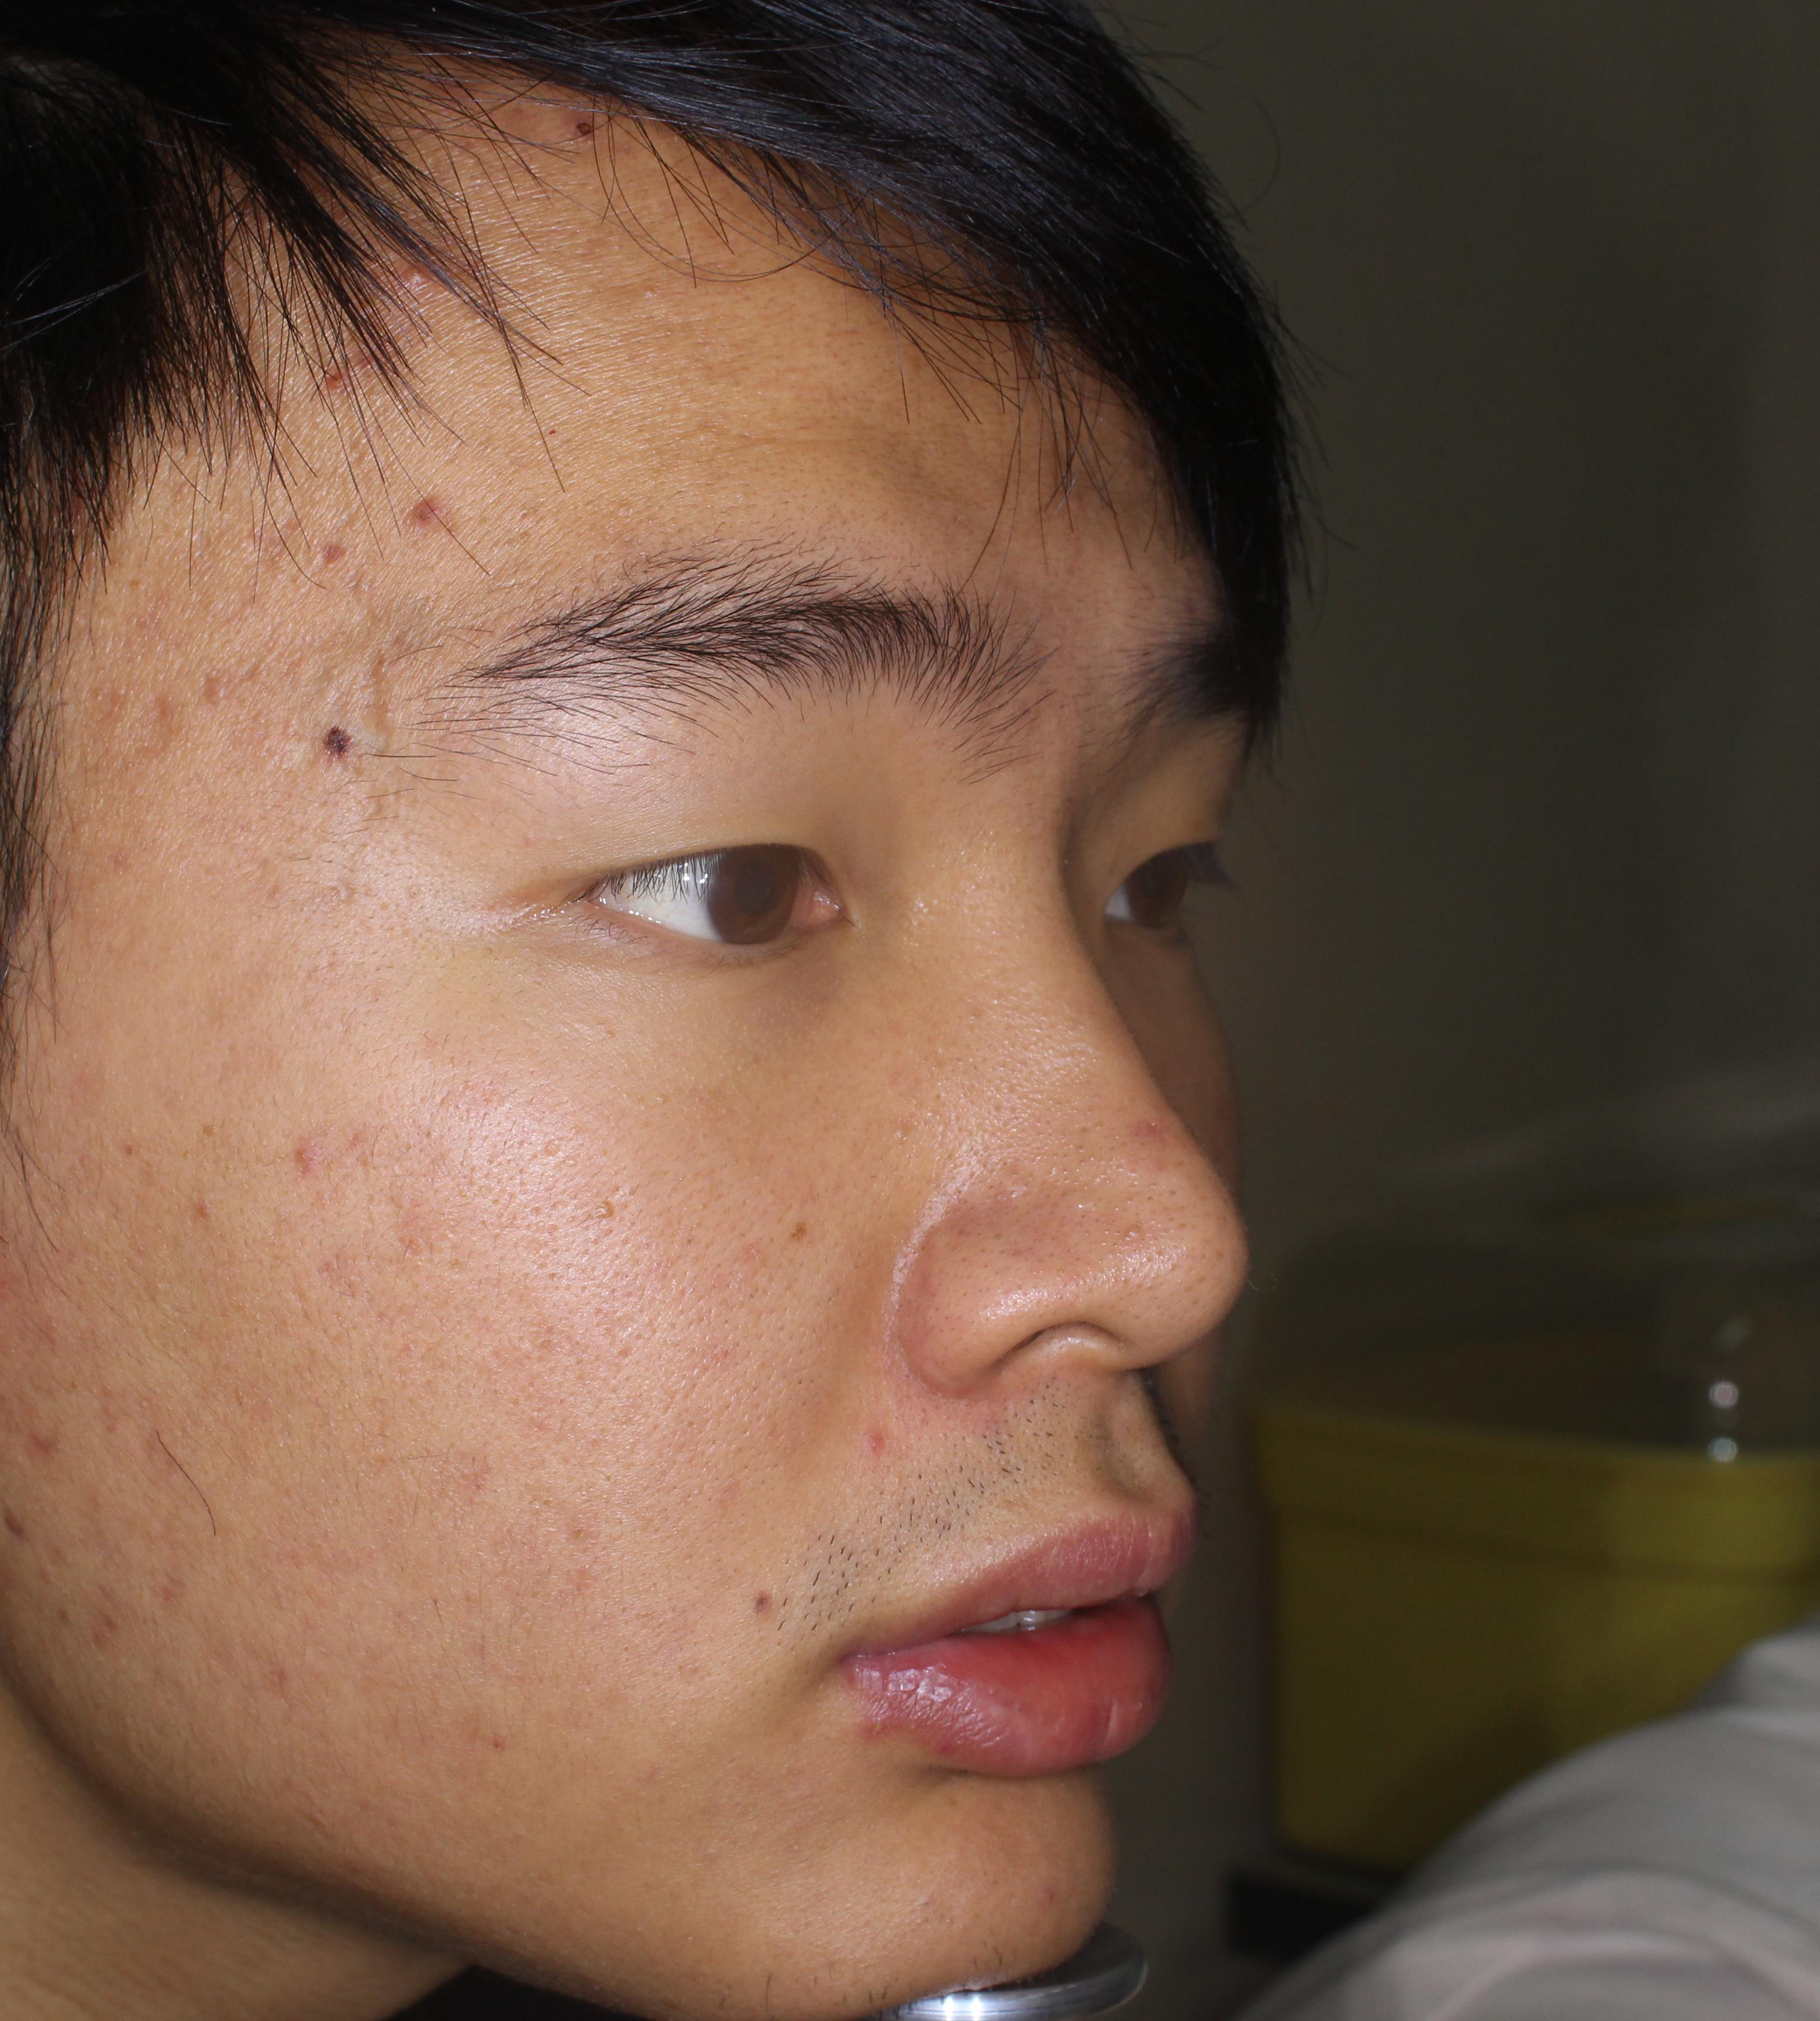fore: (271, 1092, 360, 1226), (378, 483, 467, 541)
